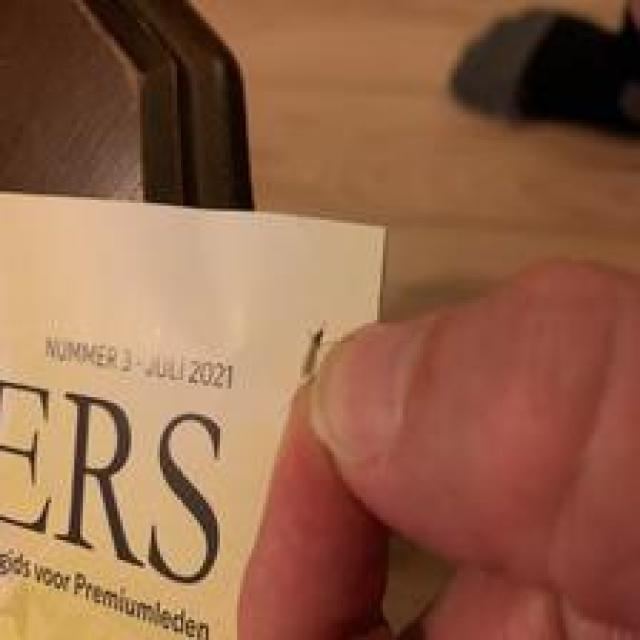Culex: (447, 0, 638, 151)
